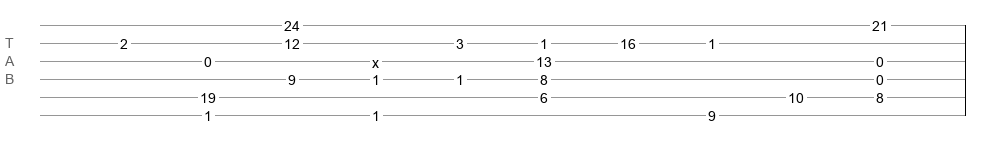0: (204, 54, 212, 64), (876, 72, 884, 82), (876, 54, 884, 64)
1: (204, 108, 212, 118), (372, 72, 380, 82), (372, 108, 380, 118), (456, 72, 464, 82), (540, 36, 548, 46), (708, 36, 716, 46)
10: (788, 90, 804, 100)
12: (284, 36, 300, 46)
13: (536, 54, 552, 64)
16: (620, 36, 636, 46)
19: (200, 90, 216, 100)
2: (120, 36, 128, 46)
21: (872, 18, 888, 28)
24: (284, 18, 300, 28)
3: (456, 36, 464, 46)
6: (540, 90, 548, 100)
8: (540, 72, 548, 82), (876, 90, 884, 100)
9: (288, 72, 296, 82), (708, 108, 716, 118)
x: (372, 55, 379, 63)
